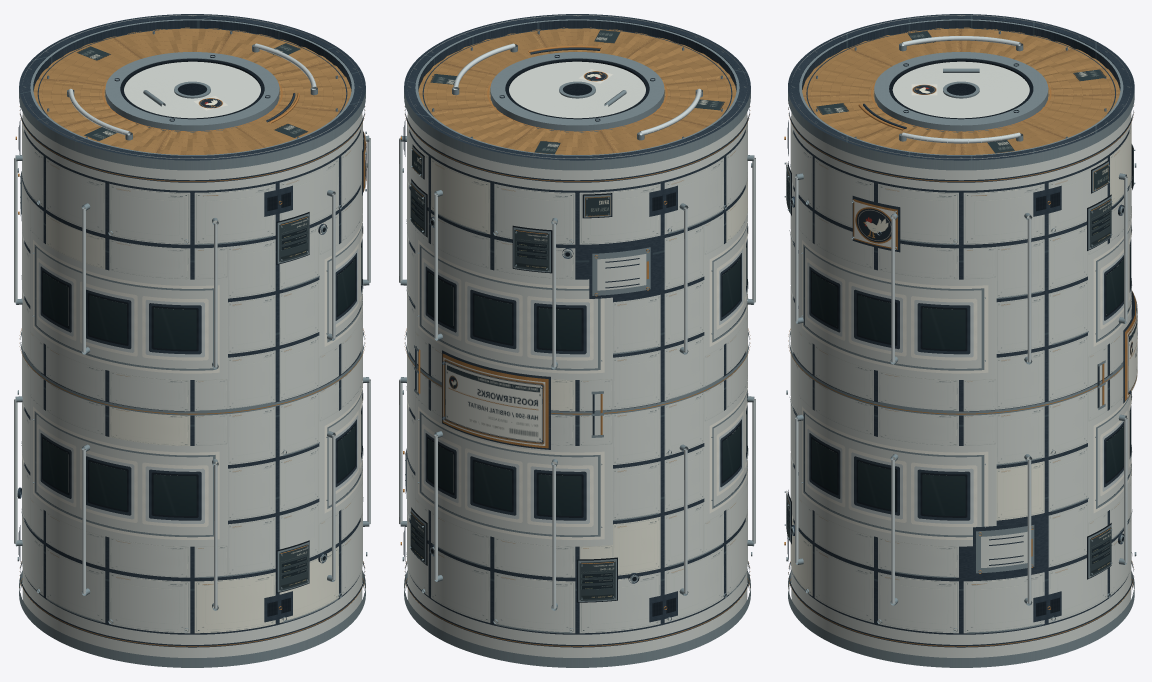
The model's file is RW_HAB_500.obj.
The picture shows the model from 3 angles, left to right: view 1: azimuth 30°, elevation 25°; view 2: azimuth 150°, elevation 25°; view 3: azimuth 270°, elevation 25°; orthographic projection.
Parts seen in each view (by area): view 1: RW_Cladding, RW_Ceramic, RW_Graphite, RW_Steel, RW_Hubblanket, RW_Rail, RW_White, RW_CladdingWhite, RW_GlassBase, RW_Black, RW_Detail, RW_Bronze (+1 smaller); view 2: RW_Cladding, RW_Ceramic, RW_Graphite, RW_Steel, RW_Hubblanket, RW_Rail, RW_White, RW_GlassBase, RW_CladdingWhite, RW_Label, RW_Detail, RW_Black (+1 smaller); view 3: RW_Cladding, RW_Ceramic, RW_Graphite, RW_Steel, RW_Hubblanket, RW_Rail, RW_White, RW_GlassBase, RW_Black, RW_CladdingWhite, RW_GlassStandard, RW_Detail (+3 smaller).
Part boxes in pixels (left/top/right/bottom): RW_Cladding: left=22, top=115, right=362, bottom=633; RW_Ceramic: left=20, top=15, right=362, bottom=657; RW_Graphite: left=17, top=14, right=365, bottom=647; RW_Steel: left=15, top=15, right=369, bottom=667; RW_Hubblanket: left=33, top=27, right=351, bottom=154; RW_Rail: left=14, top=43, right=370, bottom=608; RW_White: left=33, top=218, right=363, bottom=539; RW_CladdingWhite: left=22, top=213, right=338, bottom=633; RW_GlassBase: left=43, top=233, right=362, bottom=515; RW_Black: left=18, top=58, right=362, bottom=616; RW_Detail: left=76, top=43, right=308, bottom=591; RW_Bronze: left=15, top=82, right=365, bottom=646; RW_Cladding: left=407, top=115, right=747, bottom=633; RW_Ceramic: left=405, top=15, right=747, bottom=657; RW_Graphite: left=404, top=14, right=750, bottom=647; RW_Steel: left=400, top=15, right=754, bottom=667; RW_Hubblanket: left=418, top=27, right=736, bottom=154; RW_Rail: left=399, top=43, right=755, bottom=608; RW_White: left=418, top=218, right=748, bottom=539; RW_GlassBase: left=428, top=233, right=747, bottom=515; RW_CladdingWhite: left=407, top=158, right=747, bottom=575; RW_Label: left=443, top=357, right=545, bottom=445; RW_Detail: left=410, top=29, right=724, bottom=600; RW_Black: left=403, top=58, right=747, bottom=616; RW_Cladding: left=790, top=116, right=1131, bottom=633; RW_Ceramic: left=791, top=15, right=1131, bottom=657; RW_Graphite: left=788, top=14, right=1134, bottom=647; RW_Steel: left=784, top=15, right=1136, bottom=667; RW_Hubblanket: left=802, top=27, right=1120, bottom=154; RW_Rail: left=795, top=36, right=1132, bottom=603; RW_White: left=802, top=215, right=1132, bottom=539; RW_GlassBase: left=812, top=241, right=1131, bottom=480; RW_Black: left=787, top=58, right=1132, bottom=616; RW_CladdingWhite: left=790, top=125, right=1131, bottom=595; RW_GlassStandard: left=812, top=439, right=965, bottom=515; RW_Detail: left=786, top=30, right=1133, bottom=576.
Size of the model in its own units: 4.94 by 7.92 by 4.99.
14 materials, 14 textured.
